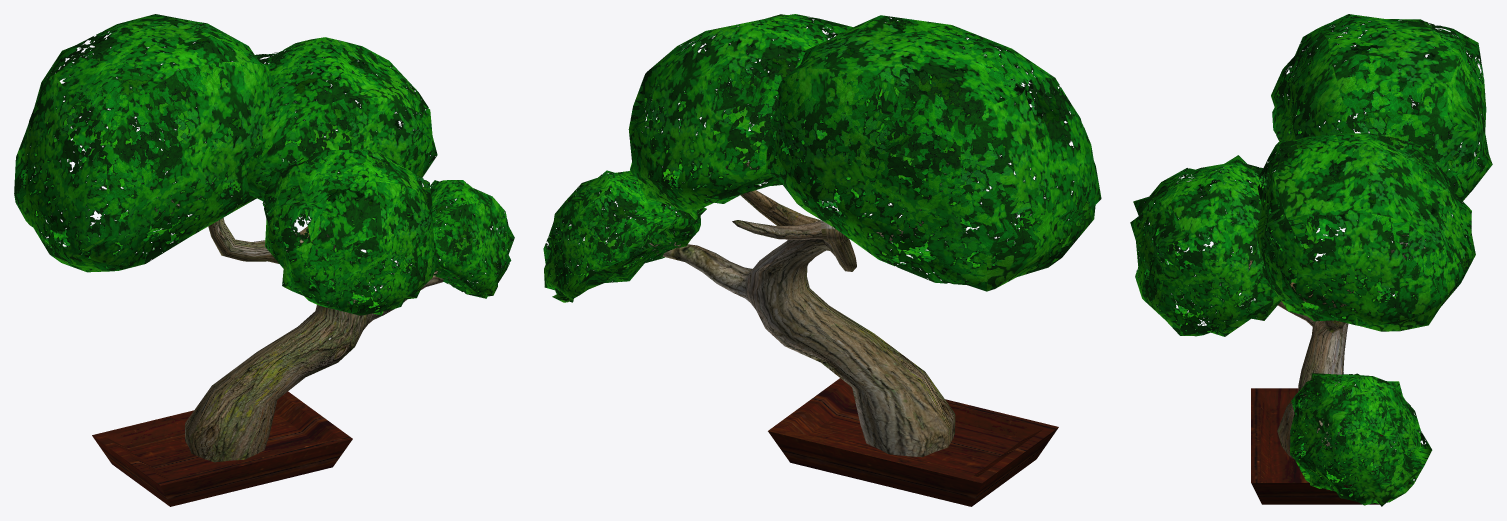
File: Bonsai.fbx
3 views of the same model, side by side, from view 1: azimuth 30°, elevation 25°; view 2: azimuth 150°, elevation 25°; view 3: azimuth 270°, elevation 25° (orthographic). The views are drawn at different scales.
Visible parts, largest first — view 1: Bonsai; view 2: Bonsai; view 3: Bonsai.
Part boxes in pixels (left/top/right/bottom): Bonsai: left=14, top=14, right=514, bottom=506; Bonsai: left=543, top=14, right=1101, bottom=506; Bonsai: left=1130, top=14, right=1492, bottom=506.
Size of the model in its own units: 95.8 by 81.22 by 64.2.
